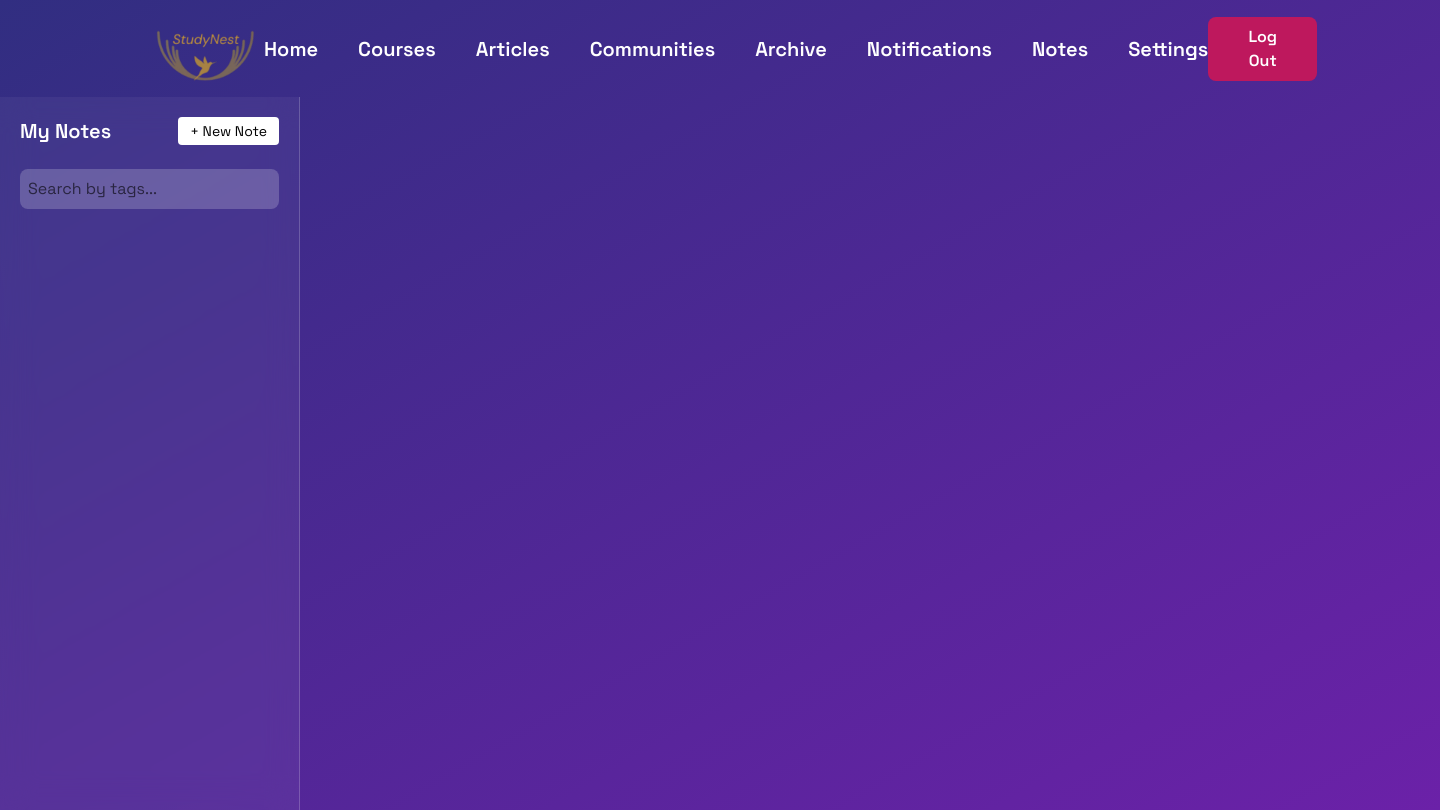
Test: NotesPage › adds a todo
Click the button "+ New Note".
click(229, 131)  # box [178,117,279,145]
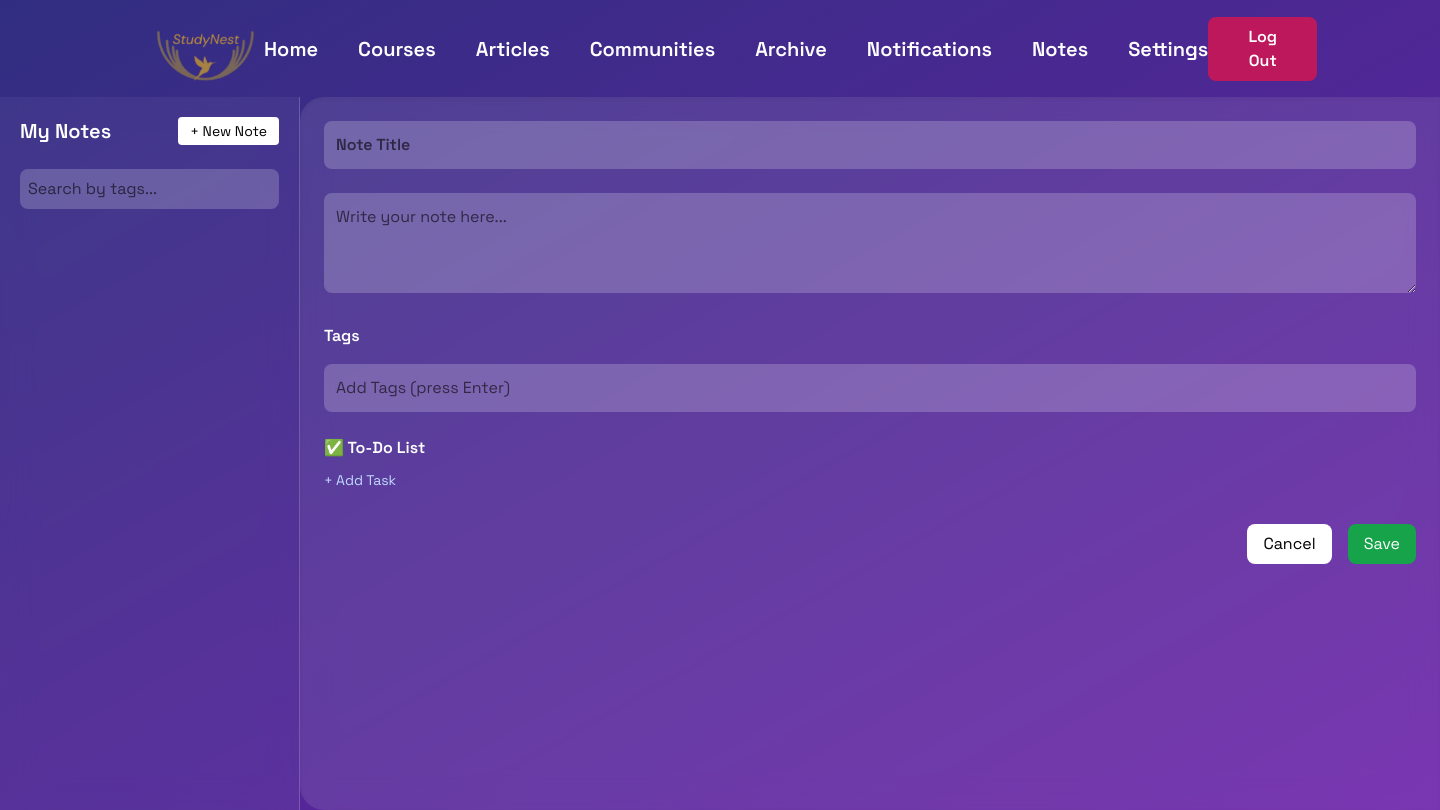
Click the button "+ Add Task".
click(360, 480)  # box [324,470,396,490]
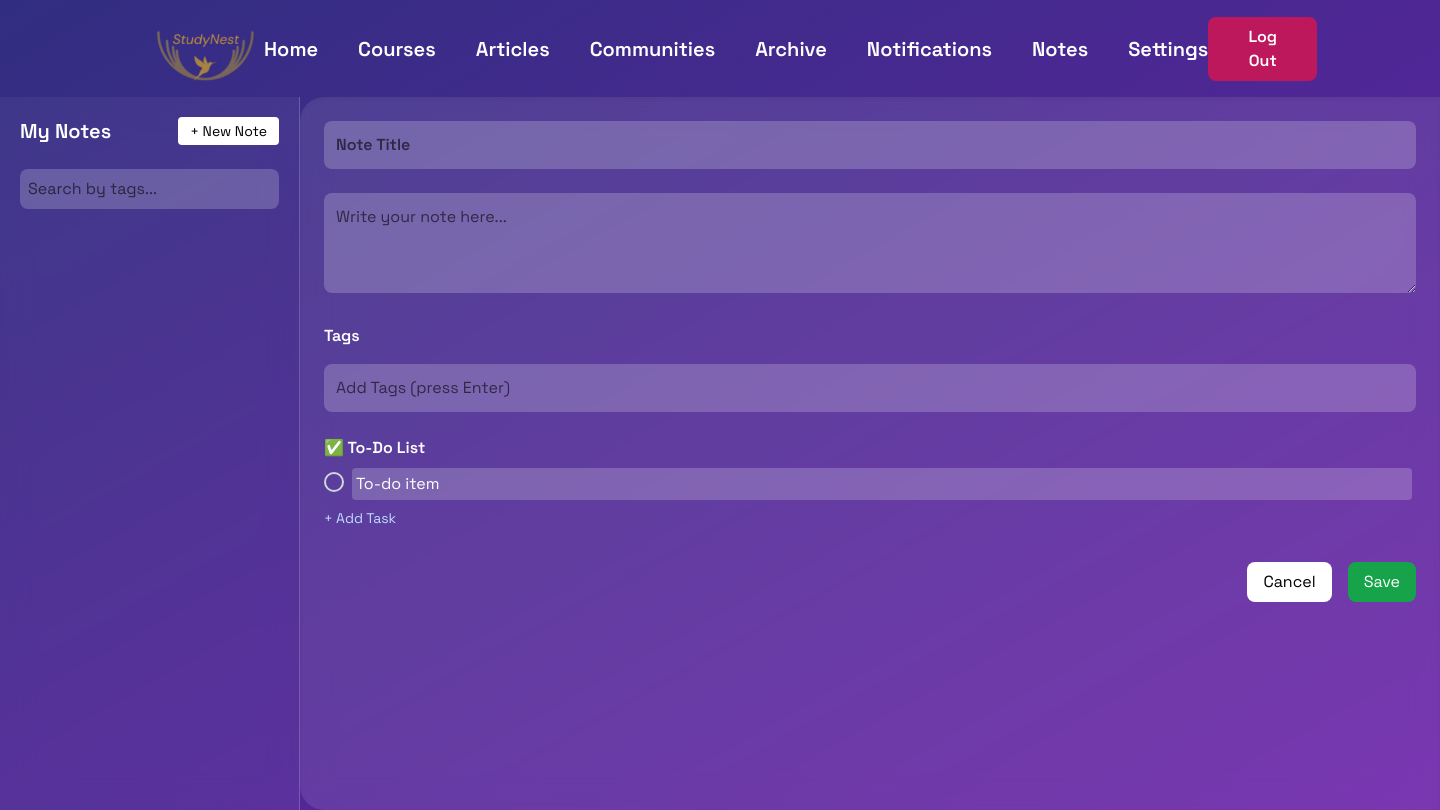
Result: the text box with placeholder "To-do item" is shown at [352,468,1412,500]
